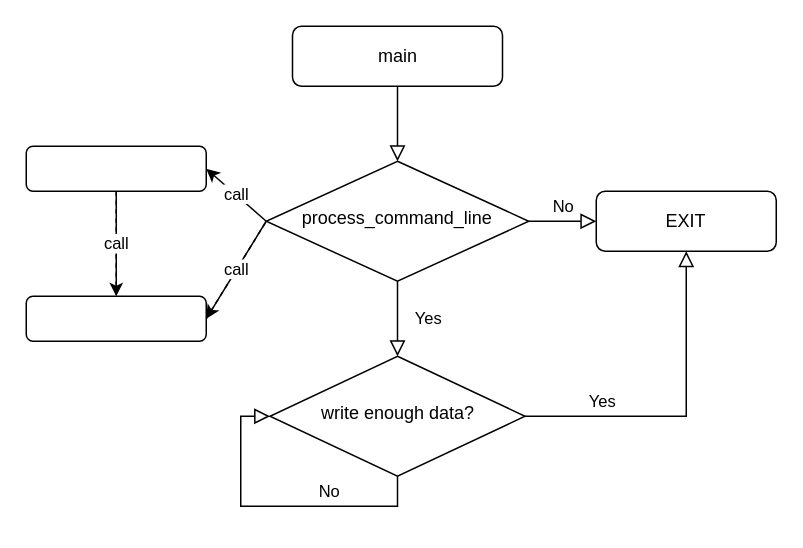
The diagram is 803 pixels wide and 548 high, and some of its shapes have lost their labels. Each missing label, with the box of its shape:
assign_value: (25, 145, 206, 191)
output_error: (25, 295, 206, 341)
